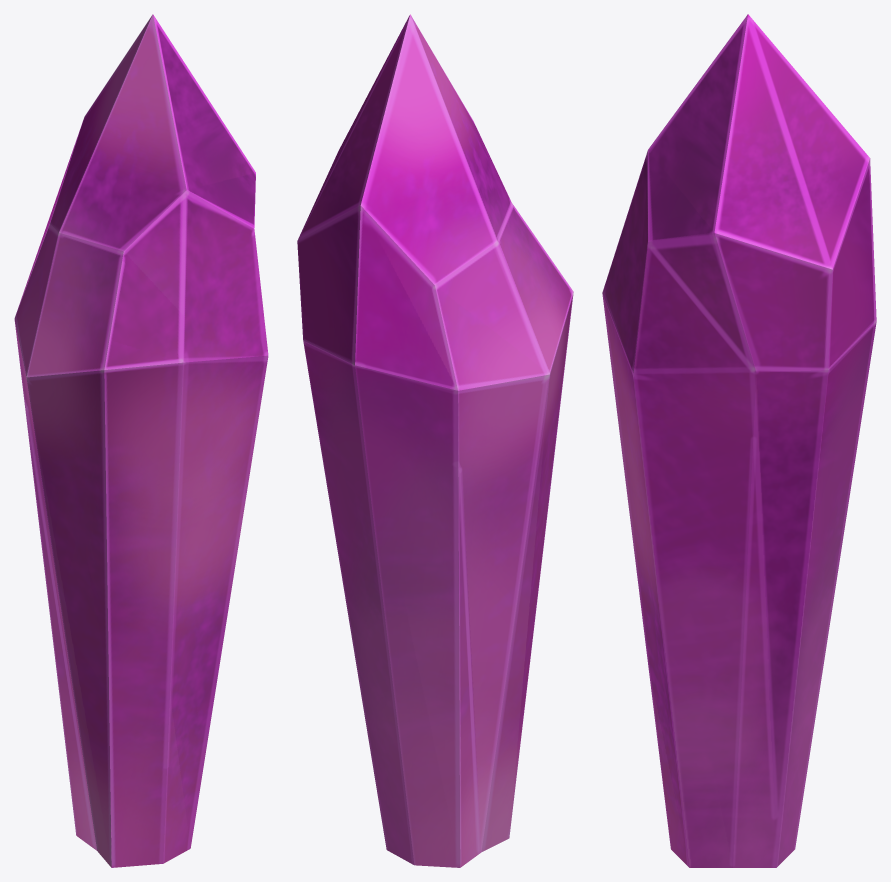
The model's file is cristal3.fbx.
The picture shows the model from 3 angles, left to right: view 1: azimuth 30°, elevation 25°; view 2: azimuth 150°, elevation 25°; view 3: azimuth 270°, elevation 25°; orthographic projection. The views are drawn at different scales.
Visible parts, largest first — view 1: Cube; view 2: Cube; view 3: Cube.
Part boxes in pixels (x1,y1,x2,y2): Cube: (14, 14, 268, 867); Cube: (297, 14, 573, 867); Cube: (602, 14, 876, 867).
Size of the model in its own units: 125 by 446 by 131.
1 material, 1 textured.
